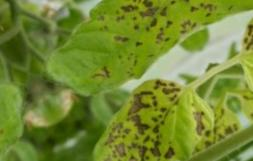Tomato leaf bacterial spot: (4, 0, 200, 127), (60, 55, 229, 161)
